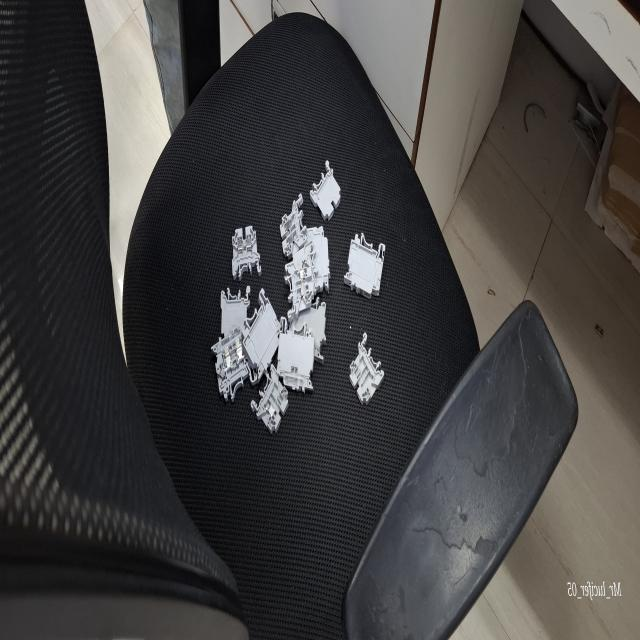Inverted: (309, 158, 342, 222)
Pass: (278, 193, 309, 258), (230, 222, 264, 280), (284, 260, 314, 323)
Reject: (348, 328, 386, 410), (248, 372, 290, 438)
